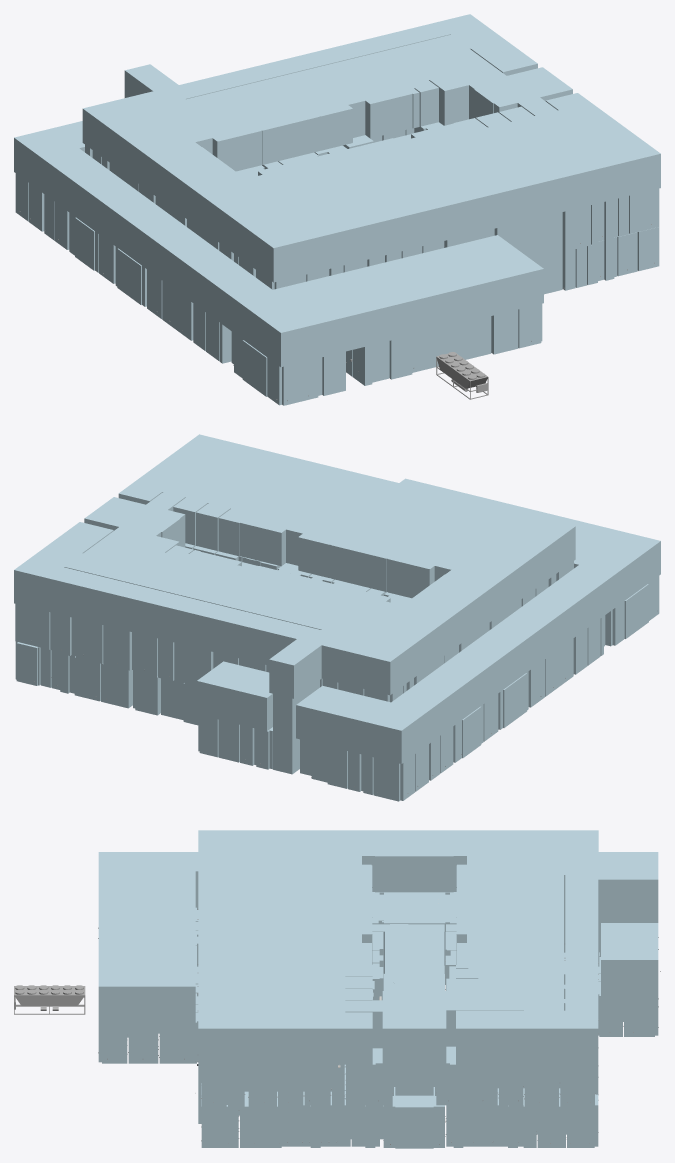
The picture shows the model from 3 angles, top to bottom: view 1: azimuth 30°, elevation 25°; view 2: azimuth 150°, elevation 25°; view 3: azimuth 270°, elevation 25°; orthographic projection. The views are drawn at different scales.
Visible parts, largest first — view 1: 2VHACsgD1E4Q6$j_TZzvLT, 2VHACsgD1E4Q6$j_TZzvKk, 30C8Tgpln5Khj3mpxiujV5, 30C8Tgpln5Khj3mpxiujVr, 2VHACsgD1E4Q6$j_TZzvLU, 30C8Tgpln5Khj3mpxiujsB, 2H3wYxUIPBpw3mjj9GlAnl, 30C8Tgpln5Khj3mpxiujVD, 2VHACsgD1E4Q6$j_TZzvLS, 30C8Tgpln5Khj3mpxiujUf, 30C8Tgpln5Khj3mpxiujUl, 30C8Tgpln5Khj3mpxiujHT (+16 smaller); view 2: 2VHACsgD1E4Q6$j_TZzvLT, 2VHACsgD1E4Q6$j_TZzvKk, 2VHACsgD1E4Q6$j_TZzvLG, 2VHACsgD1E4Q6$j_TZzvLU, 30C8Tgpln5Khj3mpxiujVr, 30C8Tgpln5Khj3mpxiujUJ, 30C8Tgpln5Khj3mpxiujh3, 30C8Tgpln5Khj3mpxiujHx, 30C8Tgpln5Khj3mpxiujGD, 30C8Tgpln5Khj3mpxiujUf, 30C8Tgpln5Khj3mpxiujHT, 30C8Tgpln5Khj3mpxiujhP (+26 smaller); view 3: 2VHACsgD1E4Q6$j_TZzvLT, 2VHACsgD1E4Q6$j_TZzvKk, 2VHACsgD1E4Q6$j_TZzvLU, 30C8Tgpln5Khj3mpxiujSx, 2VHACsgD1E4Q6$j_TZzvLG, 30C8Tgpln5Khj3mpxiujGn, 30C8Tgpln5Khj3mpxiujGb, 30C8Tgpln5Khj3mpxiujs1, 30C8Tgpln5Khj3mpxiujeN, 30C8Tgpln5Khj3mpxiujhD, 30C8Tgpln5Khj3mpxiujfT, 2H3wYxUIPBpw3mjj9GlAnl (+23 smaller).
Boxes of the visible parts, box(x1,y1,x2,y2) form: 2VHACsgD1E4Q6$j_TZzvLT: box(82, 14, 660, 282); 2VHACsgD1E4Q6$j_TZzvKk: box(14, 121, 543, 367); 30C8Tgpln5Khj3mpxiujV5: box(389, 316, 491, 379); 30C8Tgpln5Khj3mpxiujVr: box(234, 333, 318, 405); 2VHACsgD1E4Q6$j_TZzvLU: box(469, 67, 572, 119); 30C8Tgpln5Khj3mpxiujsB: box(513, 212, 562, 258); 2H3wYxUIPBpw3mjj9GlAnl: box(436, 352, 488, 399); 30C8Tgpln5Khj3mpxiujVD: box(352, 341, 389, 385); 2VHACsgD1E4Q6$j_TZzvLS: box(440, 72, 506, 125); 30C8Tgpln5Khj3mpxiujUf: box(115, 247, 146, 306); 30C8Tgpln5Khj3mpxiujUl: box(162, 281, 193, 340); 30C8Tgpln5Khj3mpxiujHT: box(69, 212, 98, 272); 2VHACsgD1E4Q6$j_TZzvLT: box(14, 434, 575, 698); 2VHACsgD1E4Q6$j_TZzvKk: box(296, 478, 660, 763); 2VHACsgD1E4Q6$j_TZzvLG: box(197, 661, 272, 731); 2VHACsgD1E4Q6$j_TZzvLU: box(84, 497, 185, 547); 30C8Tgpln5Khj3mpxiujVr: box(605, 576, 659, 646); 30C8Tgpln5Khj3mpxiujUJ: box(373, 754, 415, 801); 30C8Tgpln5Khj3mpxiujh3: box(15, 604, 50, 649); 30C8Tgpln5Khj3mpxiujHx: box(240, 725, 272, 769); 30C8Tgpln5Khj3mpxiujGD: box(101, 663, 132, 708); 30C8Tgpln5Khj3mpxiujUf: box(498, 671, 528, 729); 30C8Tgpln5Khj3mpxiujHT: box(453, 704, 483, 762); 30C8Tgpln5Khj3mpxiujhP: box(103, 625, 131, 670); 2VHACsgD1E4Q6$j_TZzvLT: box(198, 830, 658, 1064); 2VHACsgD1E4Q6$j_TZzvKk: box(98, 852, 658, 1022); 2VHACsgD1E4Q6$j_TZzvLU: box(382, 990, 446, 1086); 30C8Tgpln5Khj3mpxiujSx: box(240, 1091, 350, 1147); 2VHACsgD1E4Q6$j_TZzvLG: box(601, 923, 658, 995); 30C8Tgpln5Khj3mpxiujGn: box(446, 1093, 536, 1147); 30C8Tgpln5Khj3mpxiujGb: box(380, 1087, 444, 1148); 30C8Tgpln5Khj3mpxiujs1: box(384, 931, 444, 984); 30C8Tgpln5Khj3mpxiujeN: box(372, 892, 456, 965); 30C8Tgpln5Khj3mpxiujhD: box(435, 1046, 497, 1106); 30C8Tgpln5Khj3mpxiujfT: box(346, 1048, 393, 1106); 2H3wYxUIPBpw3mjj9GlAnl: box(14, 985, 85, 1014).
Bounding box in the file's own units: 52.59 × 14.47 × 65.15.
